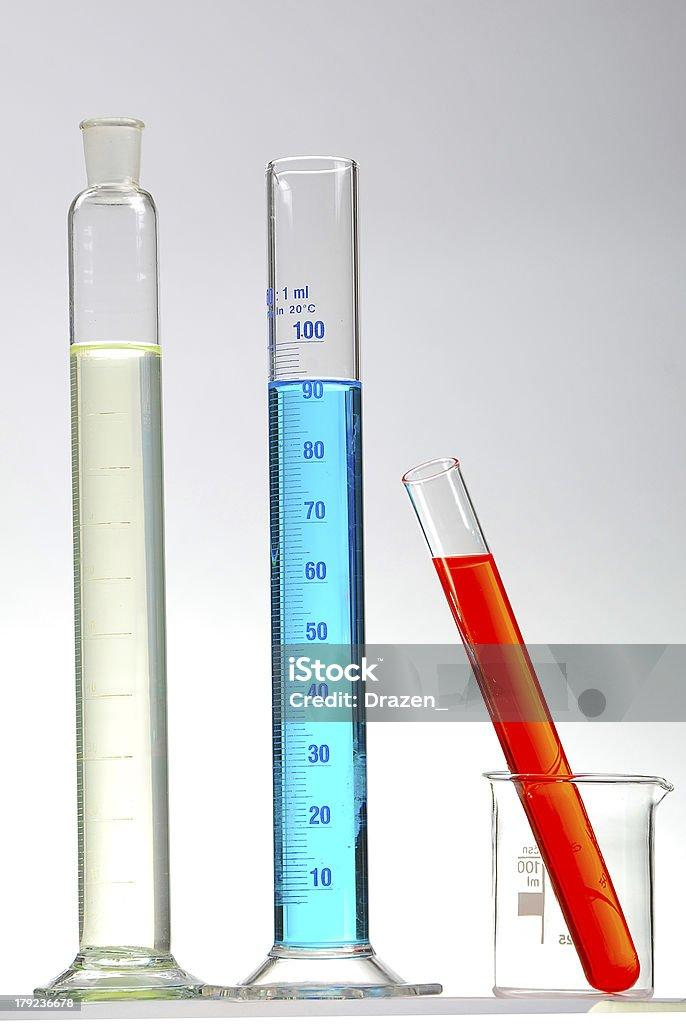Beaker: (461, 737, 673, 998)
Test tube: (77, 104, 176, 984)
